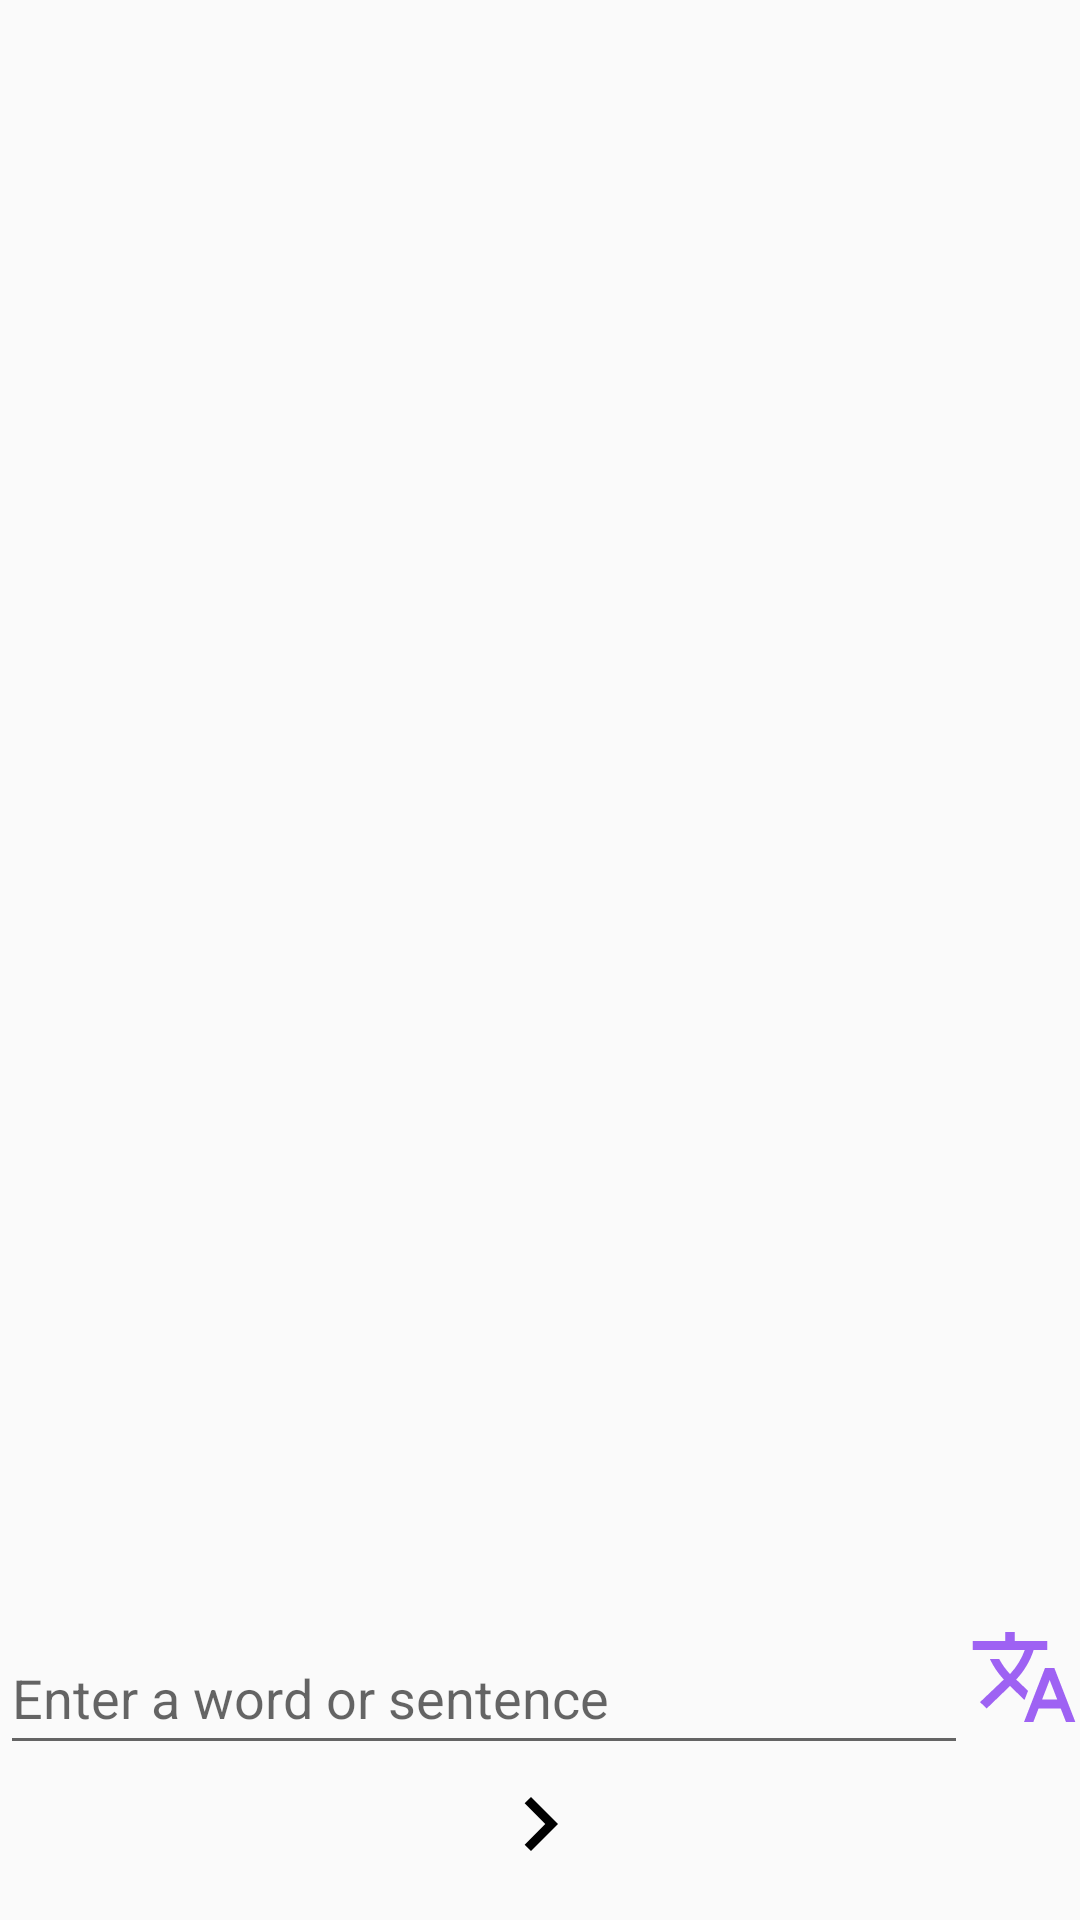

Where to tap for icons on this 1080 × 1920 app screen, as (x,y):
Indicator arrow: (541,1824)
translate: (1023,1677)
